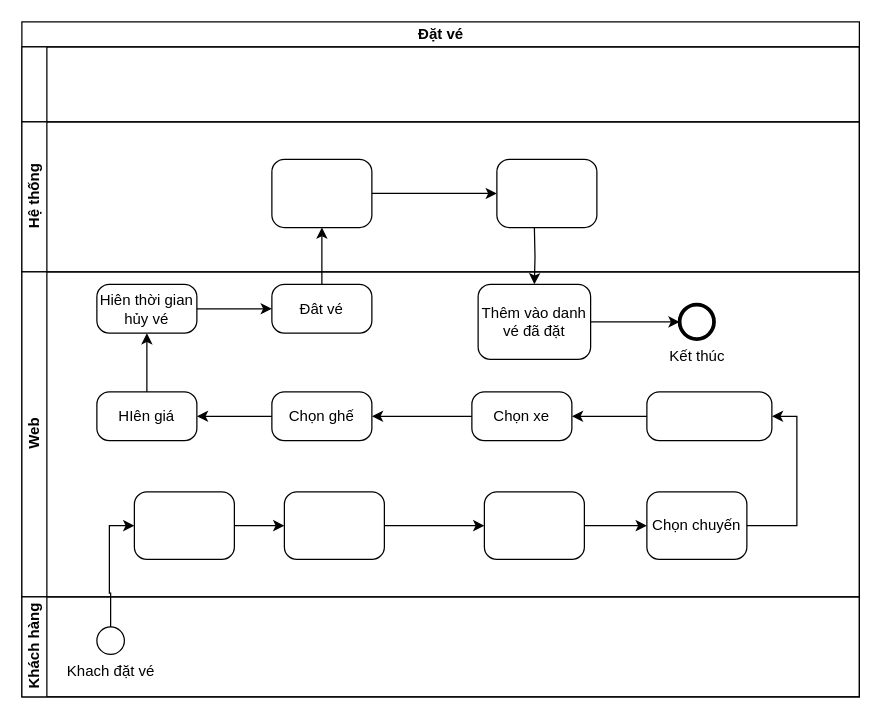
This 881x719 diagram has some shape labels left out. The centre of each missing label's shape, as x and y in pixels:
Chọn thời gian khởi hành: (x=333, y=525)
Chọn điêm đi điểm đến: (x=183, y=525)
Cập nhật trạng thái ghế: (x=321, y=193)
Nhân viên: (x=440, y=84)
Thêm vé ở trang thái đã đặt: (x=546, y=193)
Xuất danh sách chuyến phù hợp: (x=533, y=525)
Xuất danh sách xe của chuyến đó: (x=709, y=416)
